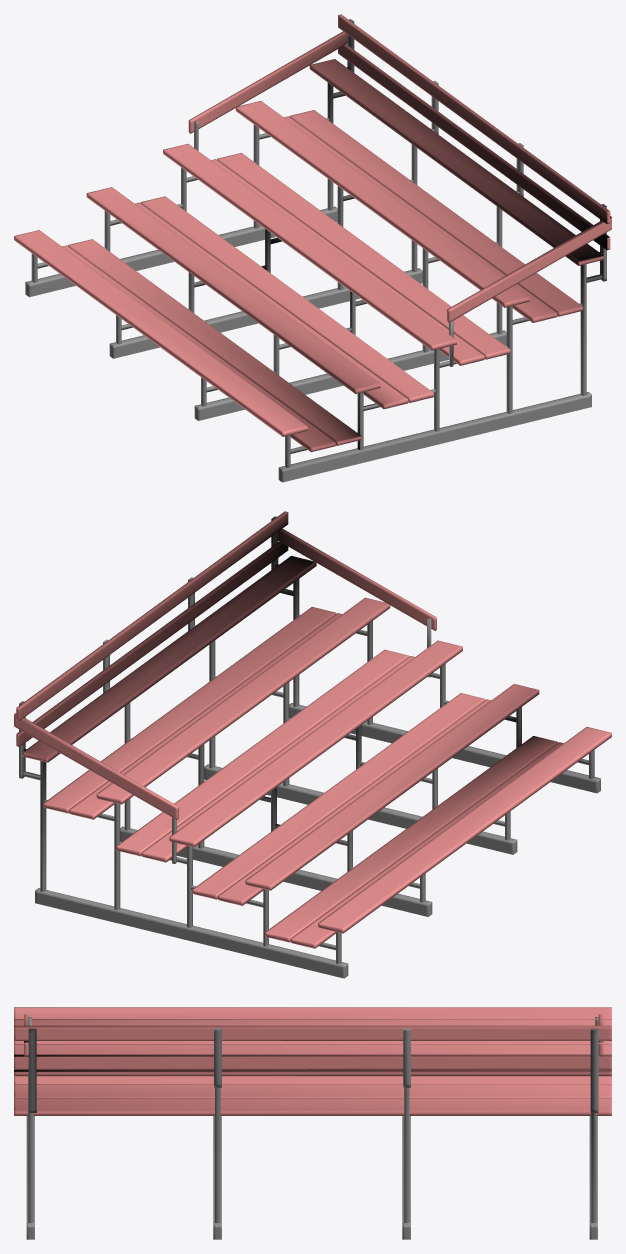
File: Woods_Field_Bleachers_01.gltf
3 renders of one model, top to bottom at view 1: azimuth 30°, elevation 25°; view 2: azimuth 150°, elevation 25°; view 3: azimuth 270°, elevation 25°, orthographic. The views are drawn at different scales.
Parts seen in each view (by area): view 1: Woods_Field_Bleachers_01; view 2: Woods_Field_Bleachers_01; view 3: Woods_Field_Bleachers_01.
Part boxes in pixels (<box>): Woods_Field_Bleachers_01: <box>14,14,611,482</box>; Woods_Field_Bleachers_01: <box>14,511,611,978</box>; Woods_Field_Bleachers_01: <box>14,1007,611,1239</box>.
Size of the model in its own units: 8.07 by 4.55 by 11.27.
